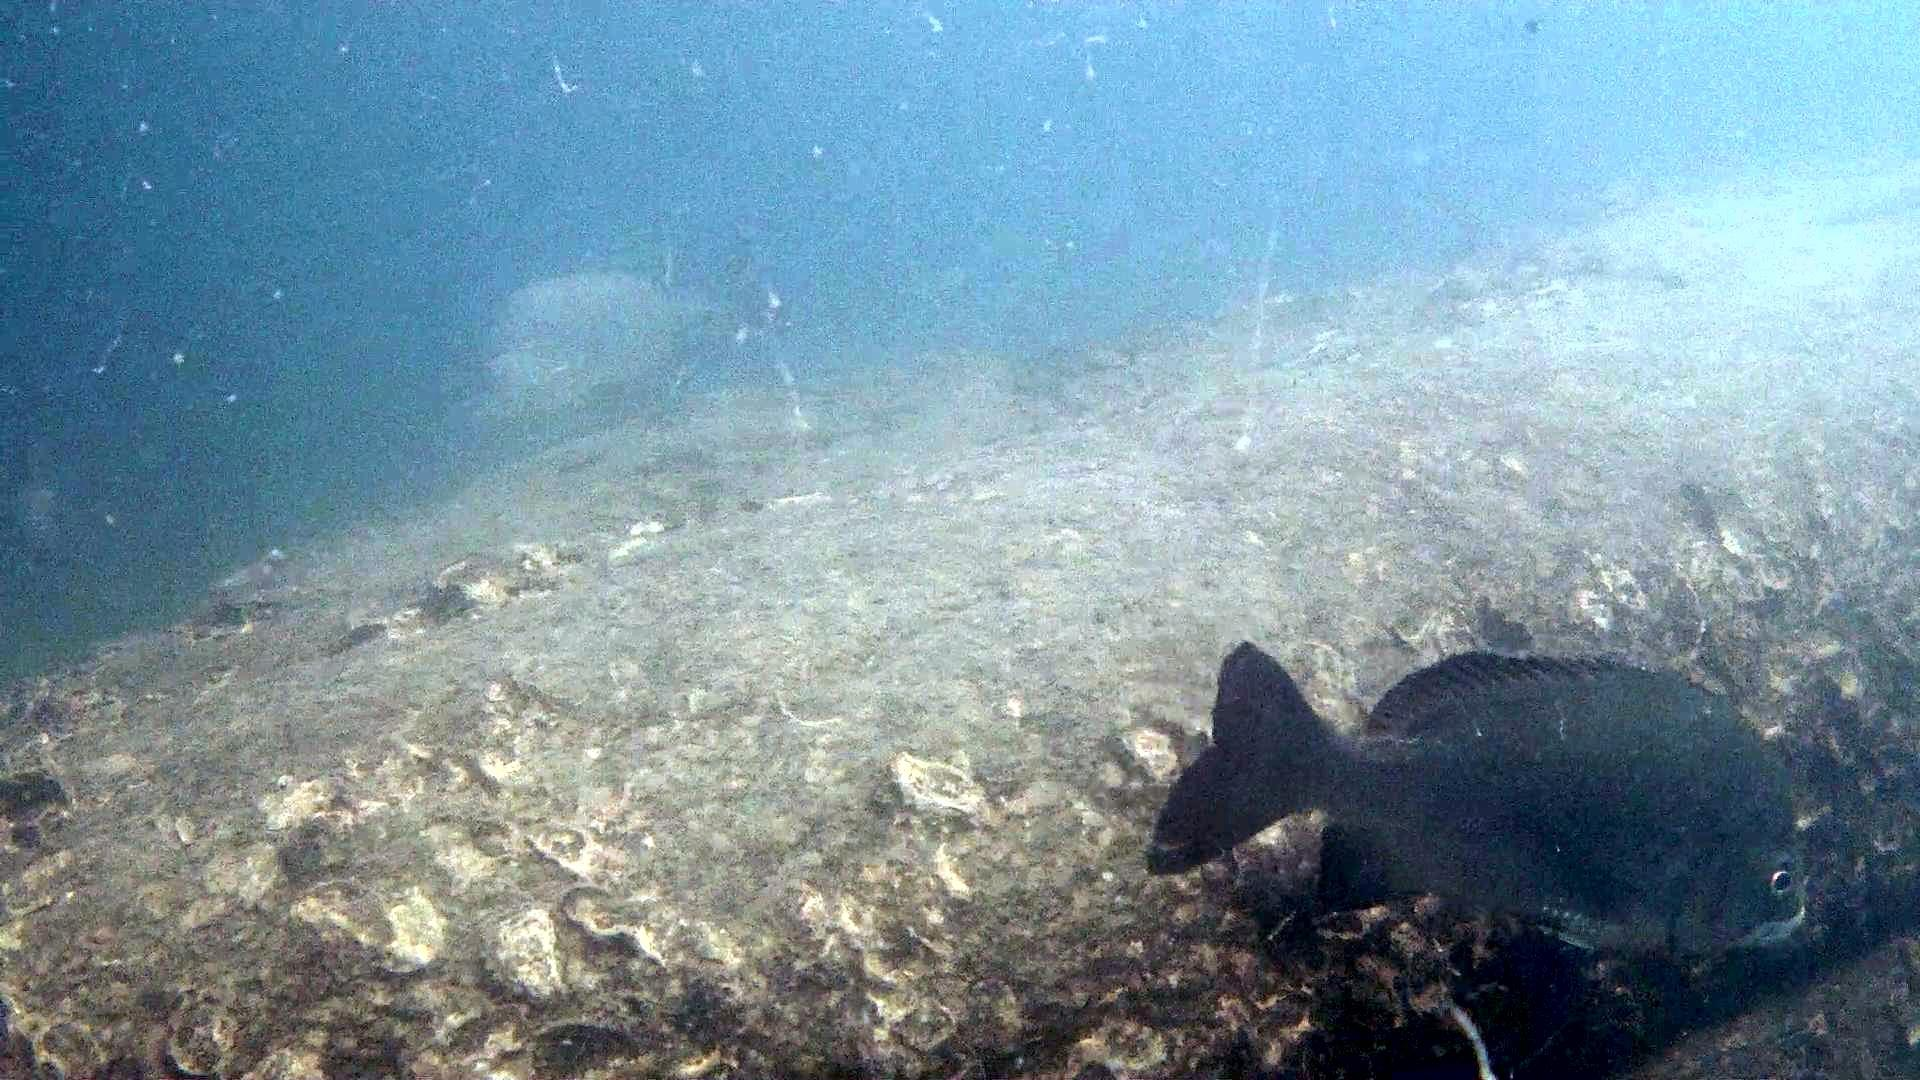acanthopagrus palmaris: (1146, 613, 1837, 998)
